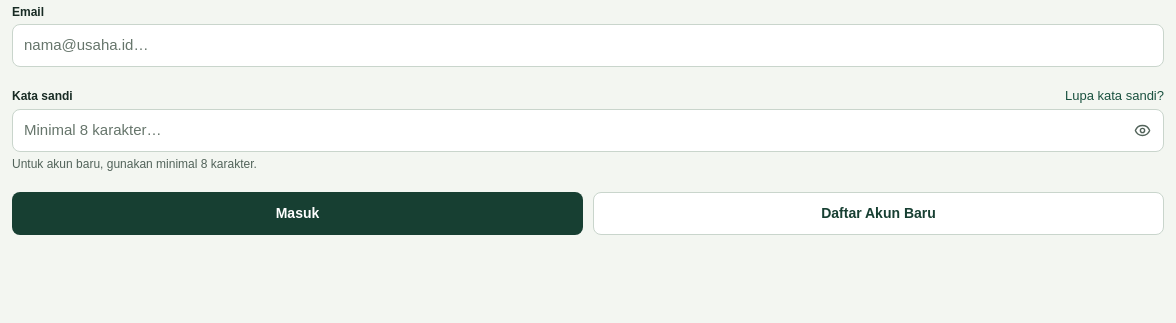
Test: LoginForm (password only; link only for forgot password) › shows Indonesian errors for wrong credentials and rate limits without leaking provider text
Type "pemilik@dapur.id" into the field labelled "Email" at (588, 46), box 12,24 -> 1164,67
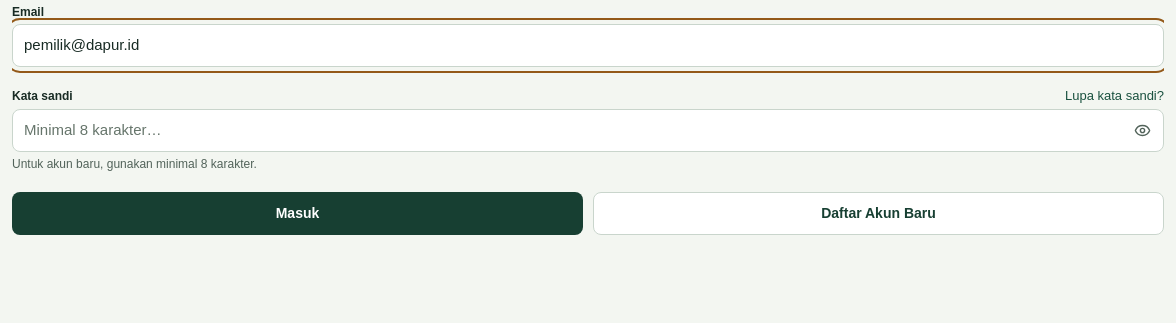
Type "salah" into the password field labelled "Kata sandi" at (588, 130), box 12,108 -> 1164,152
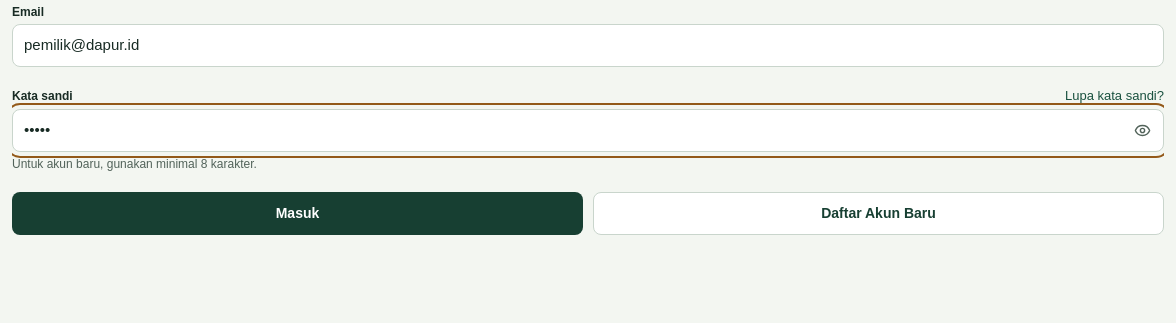
Click the button "Masuk" at (298, 213), box 12,192 -> 583,234
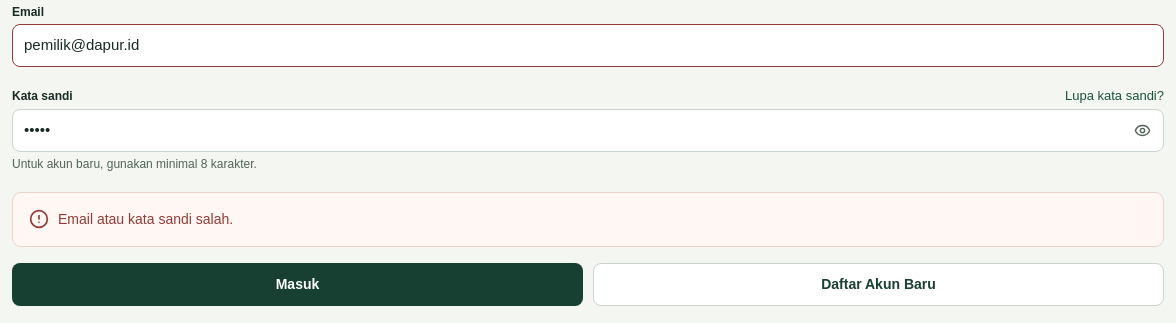
Expected: the message reads "Email atau kata sandi salah.", 58,210 -> 233,226
Click the button "Masuk" at (298, 284), box 12,262 -> 583,306
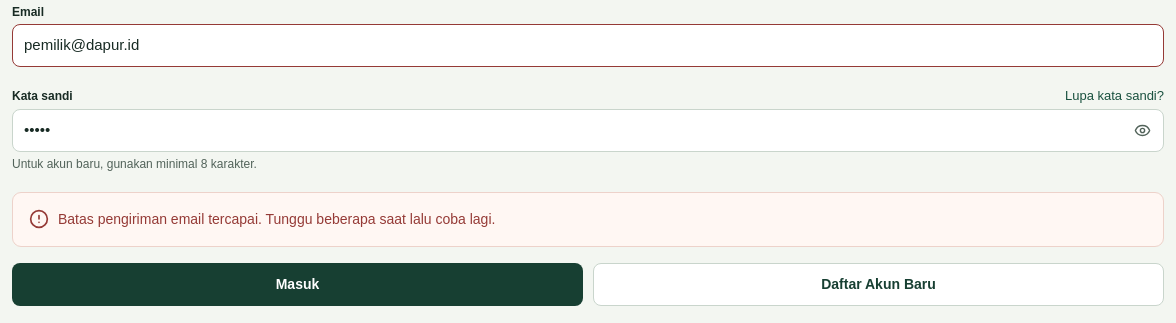
Expected: the message shows "Batas pengiriman email", 58,210 -> 495,226
